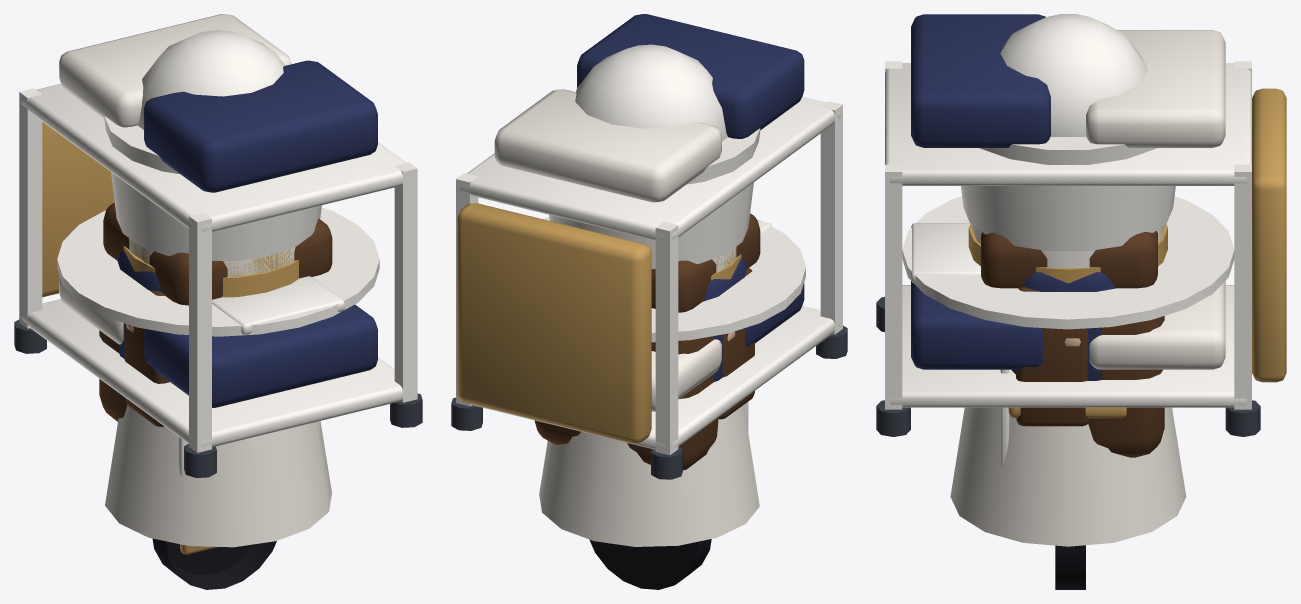
Rendered from figures.glb.
3 views of the same model, side by side, from view 1: azimuth 30°, elevation 25°; view 2: azimuth 150°, elevation 25°; view 3: azimuth 270°, elevation 25° (orthographic). The views are drawn at different scales.
Visible parts, largest first — view 1: fig-cart, fig-skirt, fig-hat-toque, fig-hat-sun, fig-hair-long, fig-hat-cap, fig-pan, fig-hair-short, fig-torso; view 2: fig-cart, fig-skirt, fig-hat-toque, fig-hat-sun, fig-hair-long, fig-pan, fig-torso; view 3: fig-cart, fig-hat-toque, fig-skirt, fig-hat-sun, fig-hair-long, fig-hat-cap, fig-torso, fig-pan.
Part boxes in pixels (<box>): fig-cart: <box>14,14,422,477</box>; fig-skirt: <box>105,405,331,547</box>; fig-hat-toque: <box>104,30,321,276</box>; fig-hat-sun: <box>57,207,379,336</box>; fig-hair-long: <box>99,203,332,426</box>; fig-hat-cap: <box>129,239,344,334</box>; fig-pan: <box>152,538,276,589</box>; fig-hair-short: <box>212,227,320,296</box>; fig-torso: <box>117,250,162,358</box>; fig-cart: <box>451,14,847,479</box>; fig-skirt: <box>539,405,759,546</box>; fig-hat-toque: <box>549,44,760,271</box>; fig-hat-sun: <box>542,217,805,342</box>; fig-hair-long: <box>534,213,760,470</box>; fig-pan: <box>589,539,711,589</box>; fig-torso: <box>702,258,747,381</box>; fig-cart: <box>876,14,1286,436</box>; fig-hat-toque: <box>961,14,1175,267</box>; fig-skirt: <box>950,407,1186,546</box>; fig-hat-sun: <box>902,196,1234,329</box>; fig-hair-long: <box>981,231,1164,457</box>; fig-hat-cap: <box>911,223,1163,283</box>; fig-torso: <box>1008,271,1126,418</box>; fig-pan: <box>1055,545,1085,589</box>.
Bounding box in the file's own units: 0.76 × 1.42 × 0.94.
